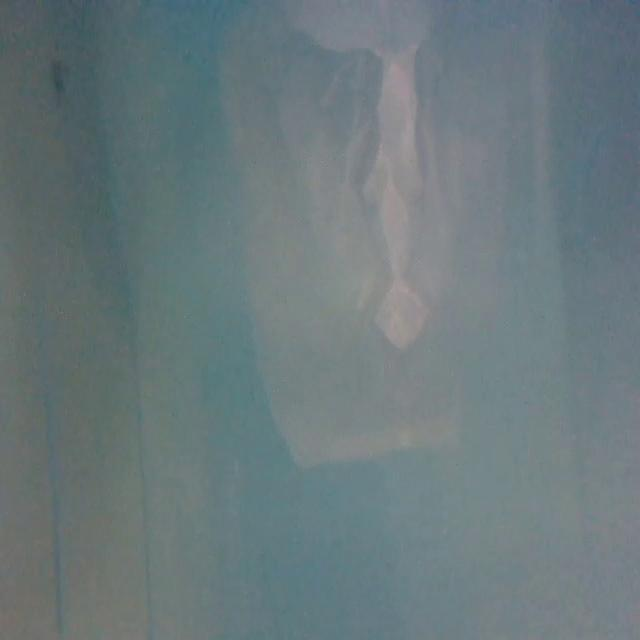plastic bags: (231, 4, 496, 476)
